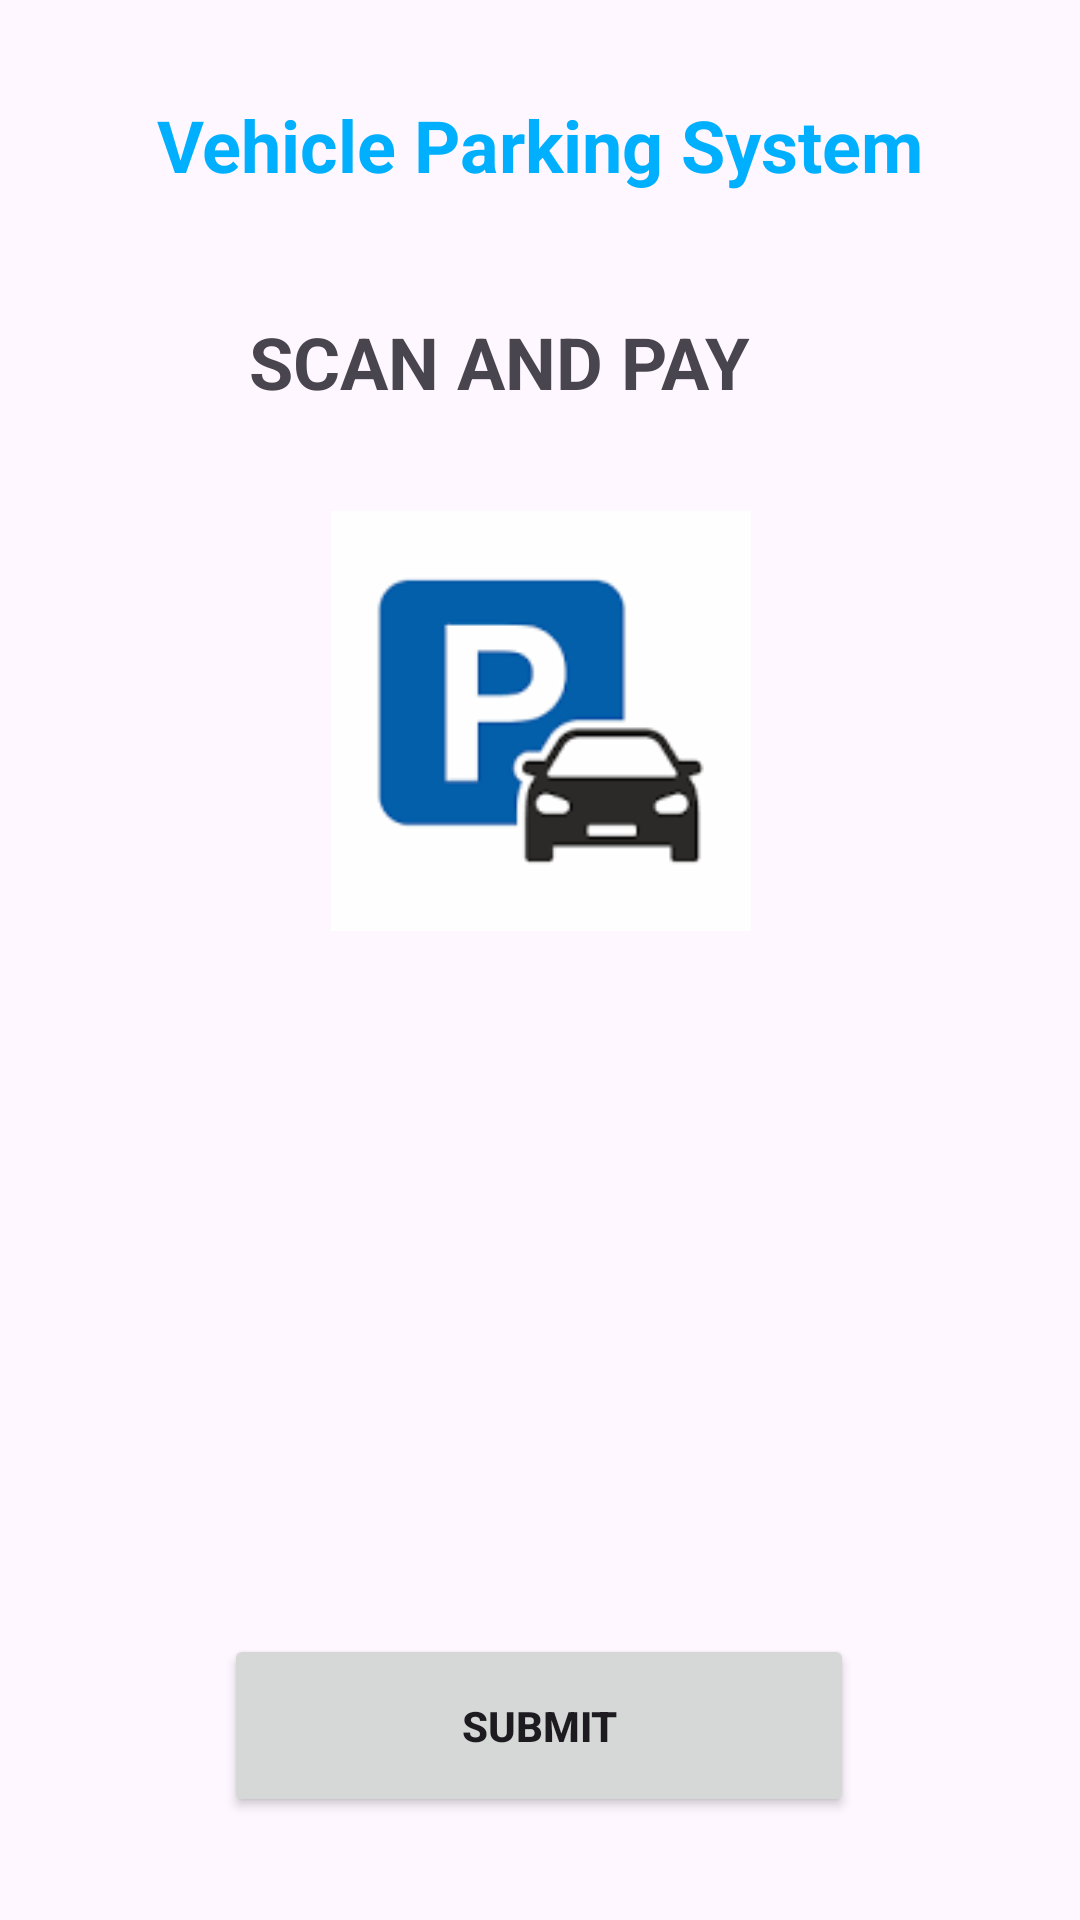

Where to tap for icons on this 1080w x 1920h app screen, as point (x, y):
vehicle: point (540, 721)
